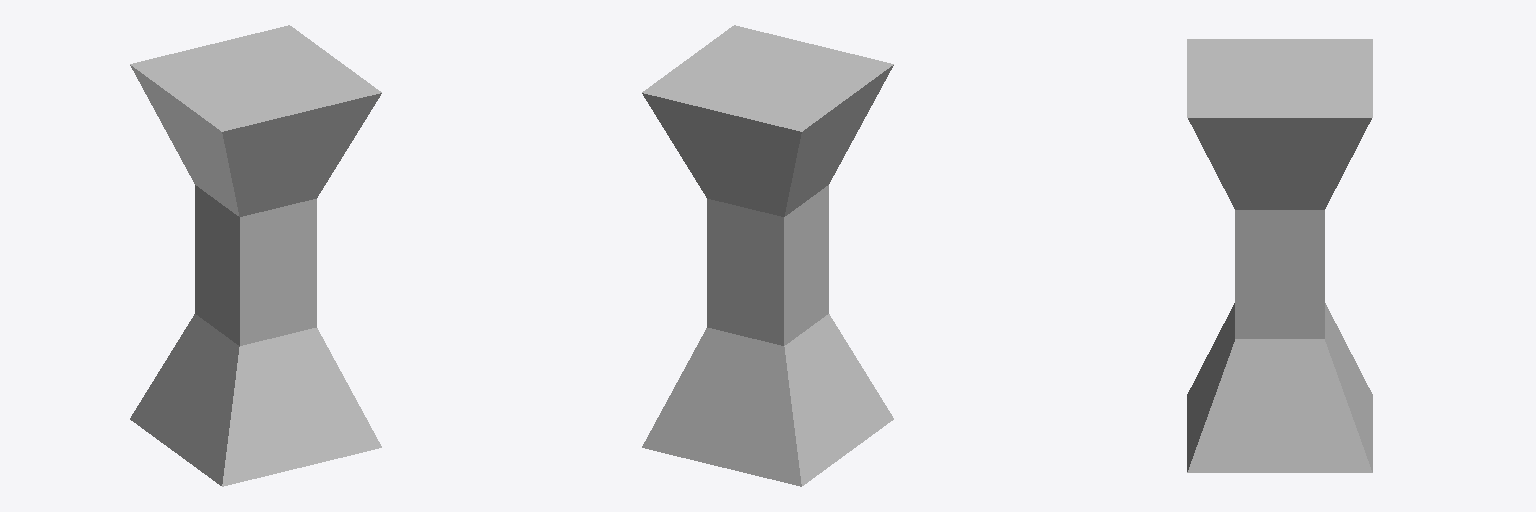
Rendered from ddzn.obj.
The picture shows the model from 3 angles: view 1: azimuth 30°, elevation 25°; view 2: azimuth 150°, elevation 25°; view 3: azimuth 270°, elevation 25°; orthographic projection.
Parts seen in each view (by area): view 1: Cube; view 2: Cube; view 3: Cube.
Part boxes in pixels (left/top/right/bottom): Cube: left=130, top=25, right=381, bottom=486; Cube: left=642, top=25, right=893, bottom=486; Cube: left=1187, top=39, right=1372, bottom=472.
Size of the model in its own units: 4.14 by 8.76 by 4.14.